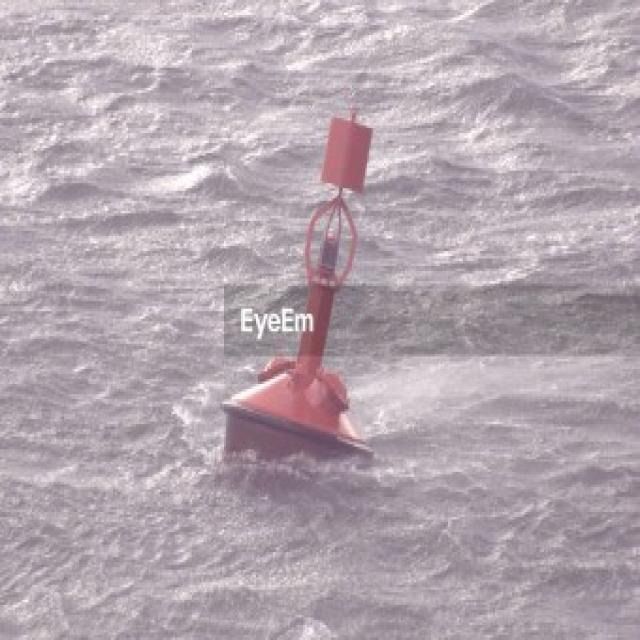2.1 lateral mark -P-: (203, 70, 389, 470)
